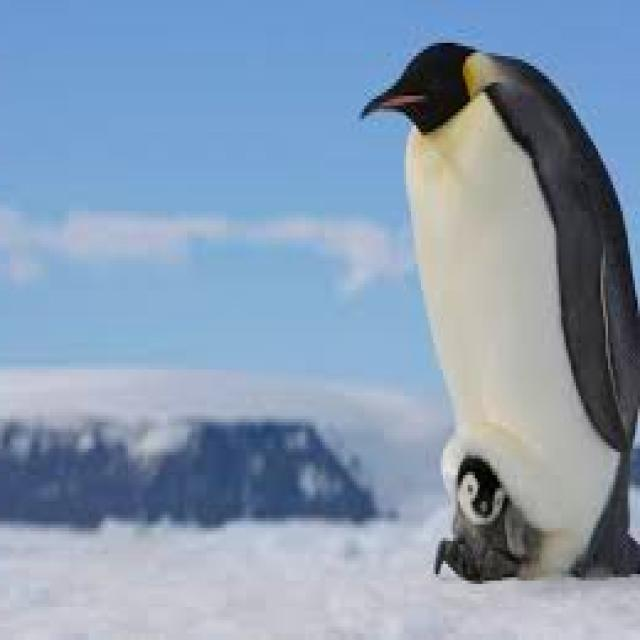penguin: (364, 43, 640, 581)
